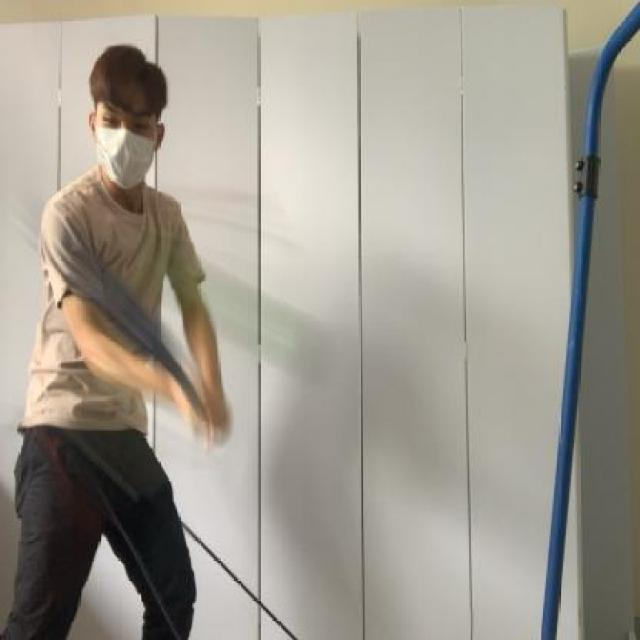baseball: (164, 267, 342, 378)
